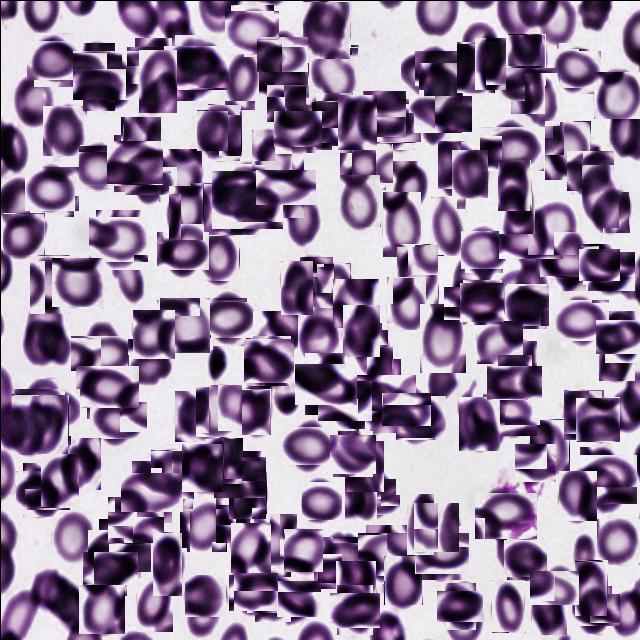red blood cell: (214, 166, 279, 231), (11, 393, 68, 454), (574, 450, 632, 508), (350, 366, 408, 424), (17, 382, 74, 440), (419, 303, 465, 372), (308, 44, 358, 105), (168, 40, 224, 94), (483, 121, 538, 175), (477, 488, 532, 542), (527, 198, 580, 254), (252, 310, 298, 374), (402, 48, 456, 101), (92, 212, 144, 266), (92, 524, 146, 576), (80, 360, 134, 412), (302, 0, 350, 58), (315, 533, 368, 585), (157, 298, 210, 350), (544, 120, 590, 179), (299, 357, 351, 409), (109, 493, 160, 545), (396, 243, 438, 305), (361, 528, 412, 579), (52, 256, 103, 307), (504, 214, 554, 266), (418, 61, 462, 119), (110, 137, 160, 188), (126, 466, 176, 517), (414, 88, 464, 139), (179, 497, 226, 551), (150, 449, 193, 508), (26, 164, 76, 214), (77, 327, 127, 377), (354, 88, 404, 138), (195, 383, 242, 436), (382, 191, 420, 256), (581, 163, 619, 227), (251, 128, 292, 187), (204, 292, 253, 341), (556, 295, 605, 344), (227, 7, 276, 56), (138, 49, 176, 112), (120, 115, 161, 173), (29, 254, 69, 313), (484, 391, 534, 438), (253, 512, 297, 565), (529, 418, 569, 476), (417, 528, 465, 576), (320, 376, 368, 424), (396, 394, 444, 442), (262, 162, 310, 210), (244, 336, 292, 384), (413, 501, 459, 551), (297, 306, 338, 362), (174, 390, 219, 441), (56, 437, 100, 489), (158, 148, 201, 201), (284, 421, 332, 468), (93, 396, 141, 443), (215, 452, 262, 500), (51, 509, 92, 564), (14, 73, 55, 128), (332, 278, 378, 327), (78, 584, 124, 633), (354, 321, 392, 380), (224, 49, 261, 109), (458, 396, 499, 450), (29, 36, 76, 83), (593, 71, 640, 118), (42, 105, 86, 155), (335, 560, 375, 615), (339, 173, 380, 226), (342, 140, 389, 186), (18, 466, 65, 512), (386, 276, 426, 330), (337, 94, 376, 149), (546, 238, 592, 284), (372, 100, 418, 146), (160, 228, 206, 274), (312, 98, 358, 144), (504, 60, 550, 106), (127, 338, 171, 386), (456, 22, 500, 70), (430, 195, 465, 255), (132, 310, 174, 360), (437, 140, 475, 195), (40, 453, 78, 508), (498, 176, 534, 233), (553, 45, 598, 90), (130, 41, 175, 86), (91, 59, 136, 104), (596, 518, 640, 564), (86, 546, 132, 590), (190, 182, 231, 231), (215, 483, 249, 542), (562, 389, 602, 439), (230, 522, 270, 572), (344, 440, 383, 491), (136, 576, 172, 631), (250, 572, 294, 617), (259, 31, 303, 76), (576, 396, 620, 441), (491, 360, 536, 404), (476, 320, 522, 363), (507, 33, 545, 85), (181, 443, 222, 491), (383, 554, 422, 604), (392, 160, 428, 214), (588, 248, 632, 292), (568, 148, 612, 192), (231, 569, 275, 613), (228, 388, 270, 434), (168, 184, 203, 239), (342, 304, 379, 356), (152, 531, 182, 595), (558, 470, 596, 520), (456, 42, 494, 92), (353, 474, 396, 518), (207, 103, 240, 160), (284, 194, 320, 246), (524, 72, 559, 125), (262, 58, 305, 101), (76, 62, 120, 104), (574, 560, 607, 616), (332, 588, 376, 630), (490, 578, 524, 632), (451, 148, 488, 197), (1, 212, 44, 254), (505, 284, 547, 327), (331, 432, 374, 474), (200, 234, 239, 280), (344, 464, 376, 520), (228, 471, 266, 518), (496, 158, 530, 210), (462, 228, 504, 270), (598, 331, 634, 380), (281, 528, 323, 570), (184, 574, 226, 616), (76, 46, 118, 88), (532, 566, 574, 608), (276, 107, 318, 149), (384, 388, 426, 430), (460, 280, 502, 322), (204, 437, 242, 483), (406, 492, 434, 554), (280, 260, 312, 314), (78, 145, 120, 186), (600, 314, 640, 357), (474, 36, 506, 89), (593, 185, 629, 232), (531, 586, 566, 634), (574, 589, 615, 629), (130, 160, 170, 201), (498, 340, 536, 383), (504, 538, 544, 578), (294, 106, 334, 146), (278, 578, 318, 618), (446, 282, 486, 322), (515, 442, 555, 482), (302, 481, 342, 520), (316, 262, 350, 307), (440, 586, 479, 625), (294, 256, 332, 294), (266, 84, 304, 122), (580, 245, 617, 282), (196, 109, 228, 150)
